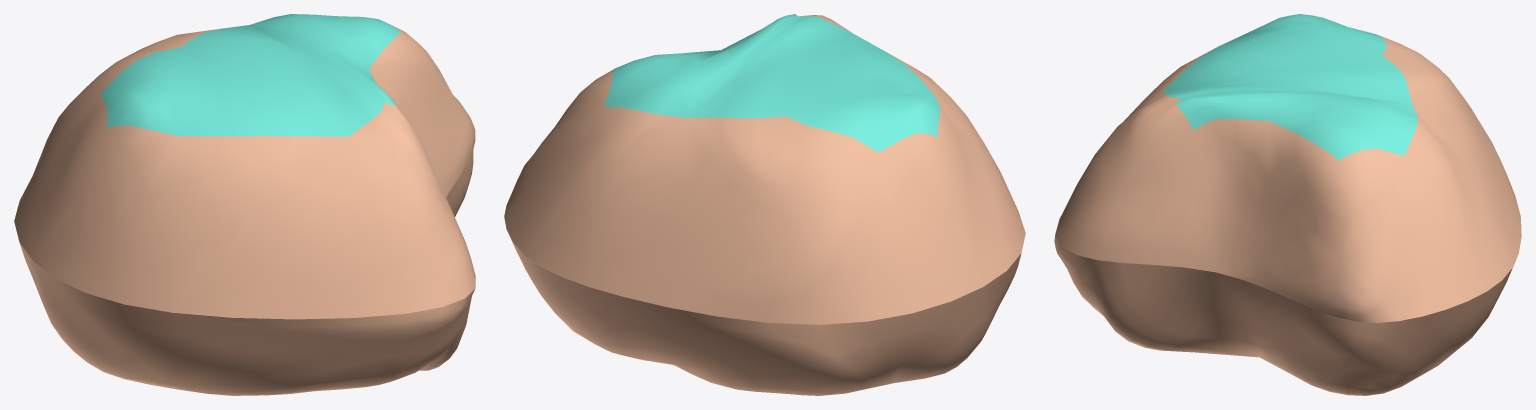
File: background-rock-larged.glb
3 views of the same model, side by side, from view 1: azimuth 30°, elevation 25°; view 2: azimuth 150°, elevation 25°; view 3: azimuth 270°, elevation 25° (orthographic). The views are drawn at different scales.
Parts seen in each view (by area): view 1: rock_largeD; view 2: rock_largeD; view 3: rock_largeD.
Boxes of the visible parts, x1,y1,x2,y2 form: rock_largeD: (14, 14, 475, 395); rock_largeD: (504, 14, 1025, 395); rock_largeD: (1054, 14, 1521, 395).
Bounding box in the file's own units: 0.9993 × 0.5644 × 0.9569.
